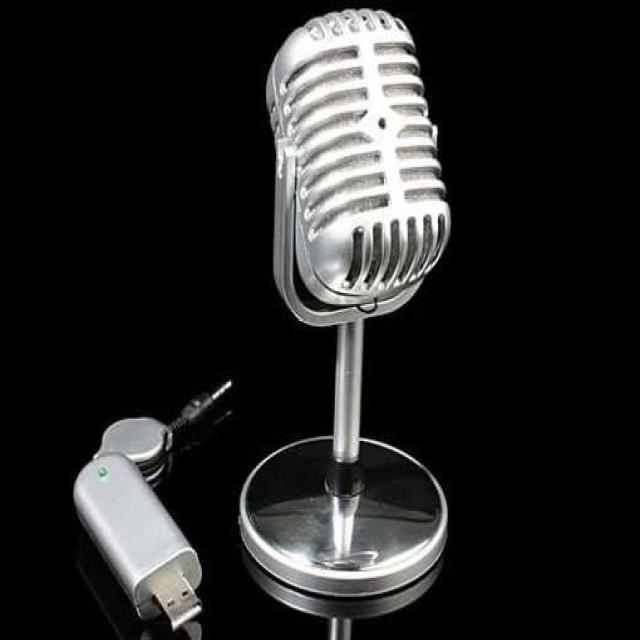microphone: (263, 4, 459, 329)
